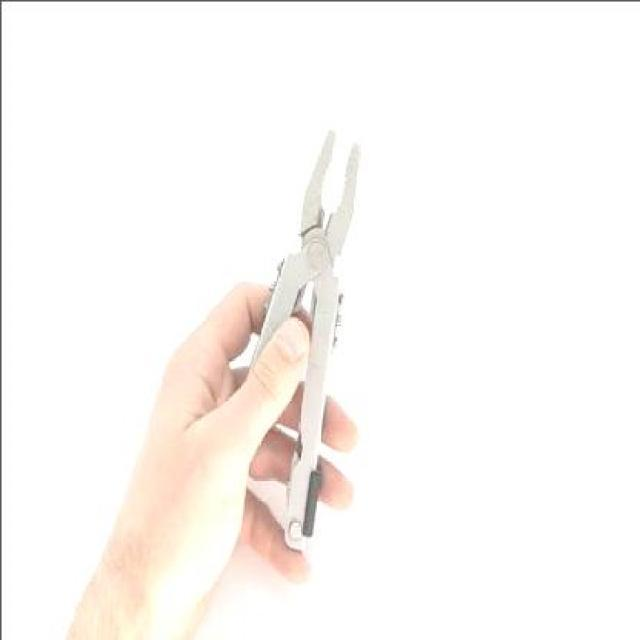pliers: (270, 98, 376, 299)
